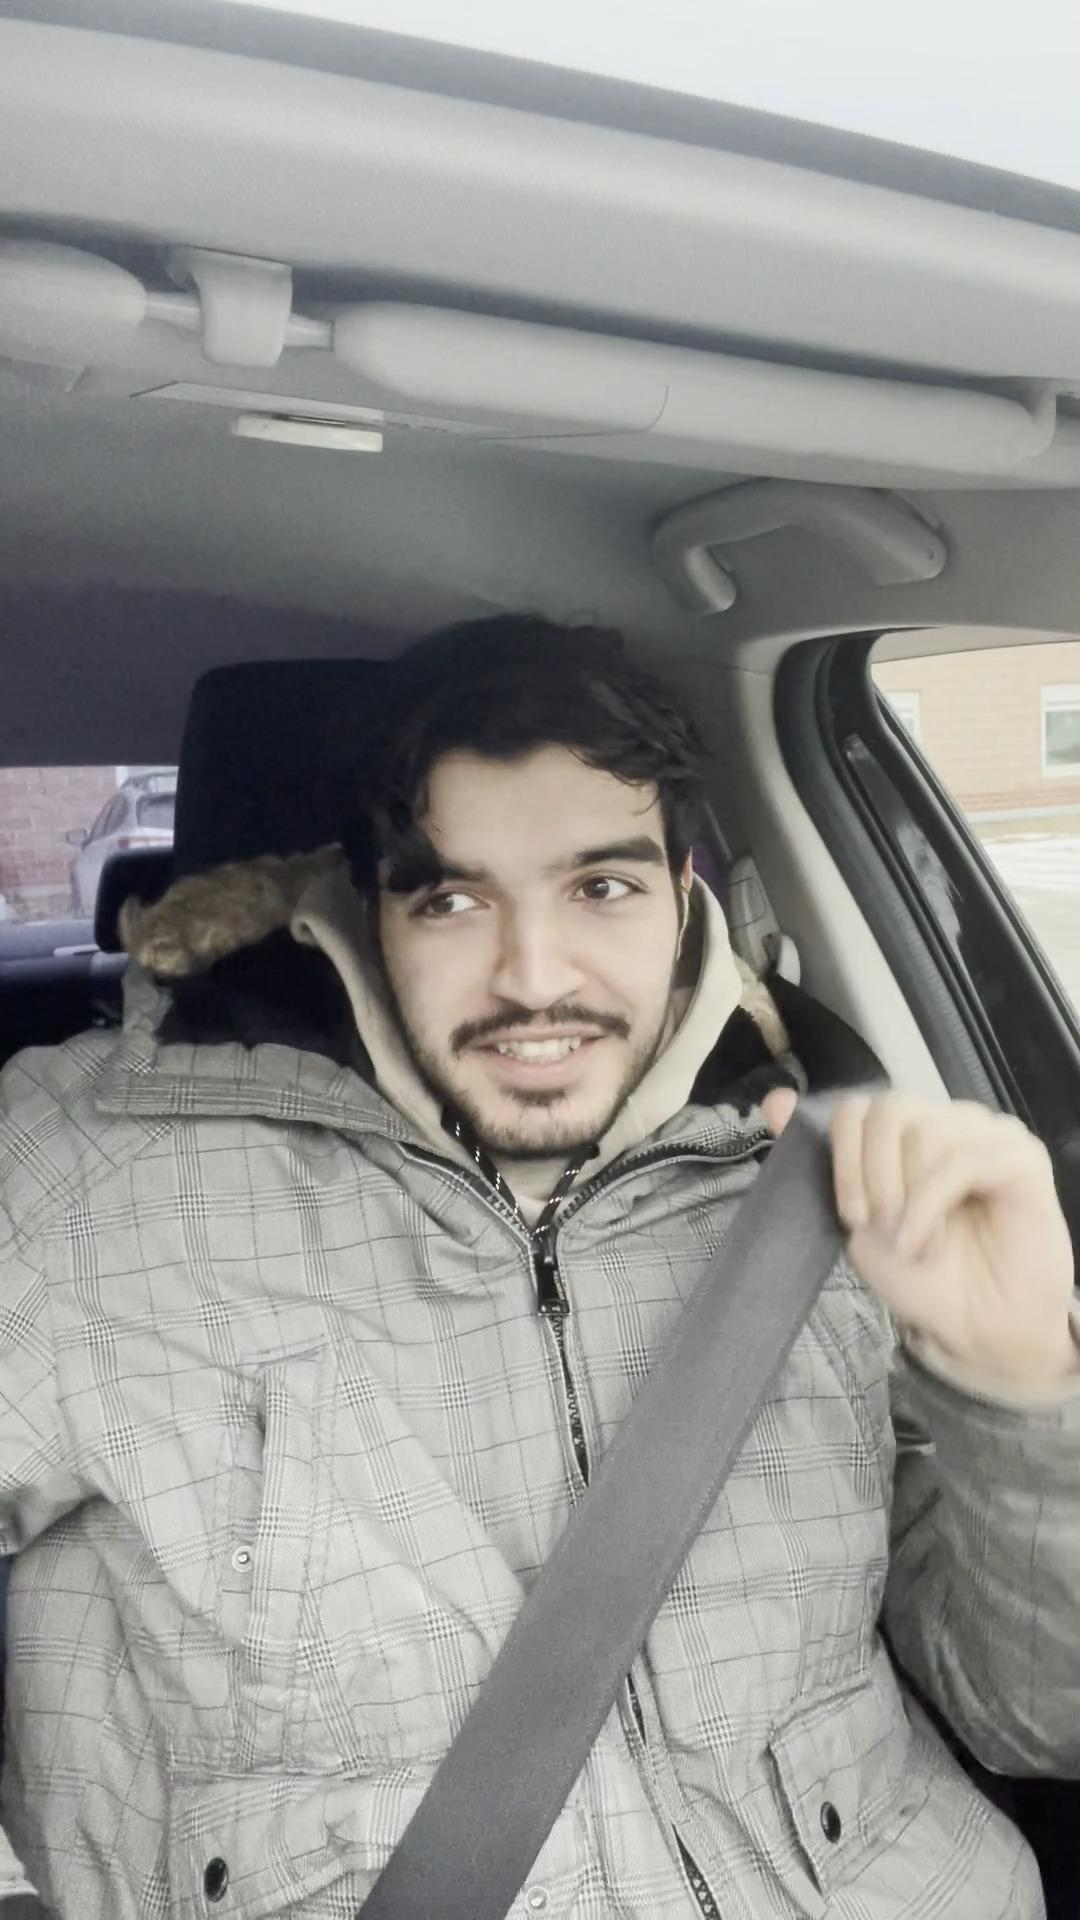seatbelt: (158, 1100, 956, 1920)
